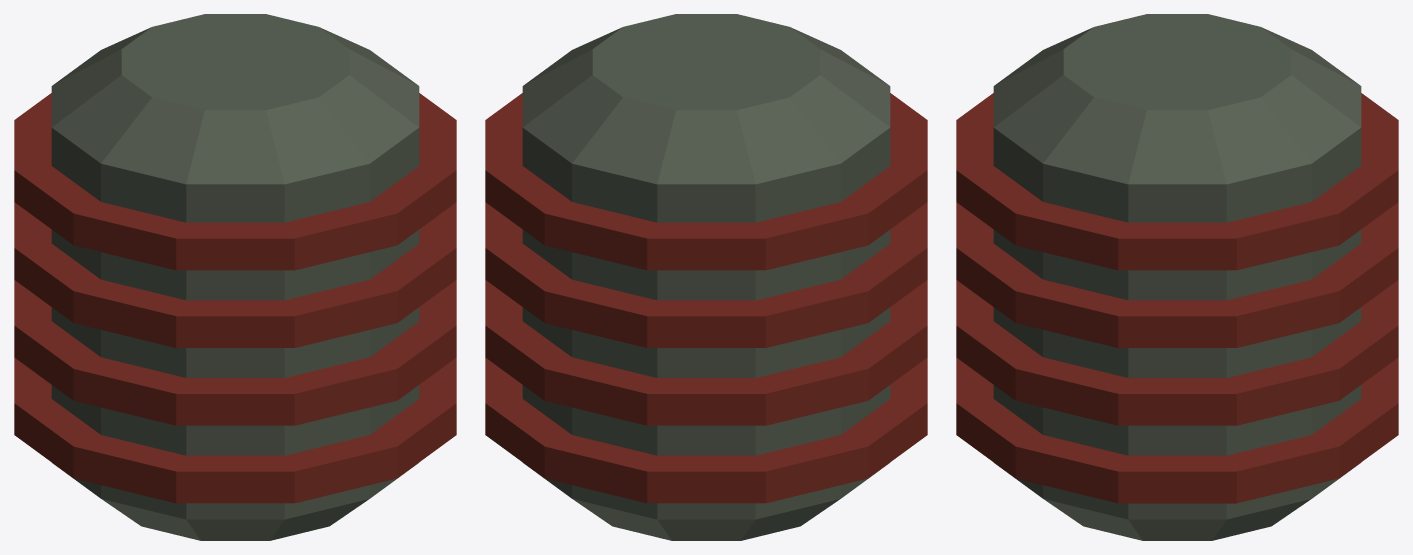
File: s600_vessel.obj
3 views of the same model, side by side, from view 1: azimuth 30°, elevation 25°; view 2: azimuth 150°, elevation 25°; view 3: azimuth 270°, elevation 25° (orthographic).
Parts seen in each view (by area): view 1: s600_vessel; view 2: s600_vessel; view 3: s600_vessel.
Part boxes in pixels (x1,y1,x2,y2): s600_vessel: [14, 14, 456, 540]; s600_vessel: [485, 14, 927, 540]; s600_vessel: [956, 14, 1398, 540].
Size of the model in its own units: 1.72 by 1.82 by 1.72.
